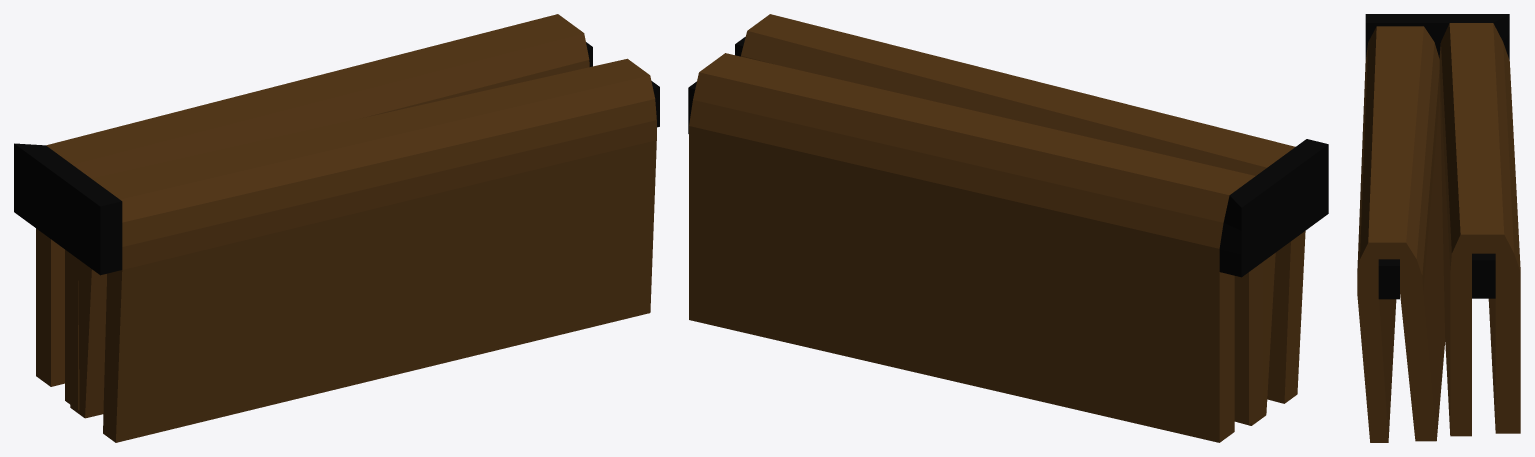
Rendered from towellHolder.fbx.
3 renders of one model, left to right at view 1: azimuth 30°, elevation 25°; view 2: azimuth 150°, elevation 25°; view 3: azimuth 270°, elevation 25°, orthographic. The views are drawn at different scales.
Visible parts, largest first — view 1: Cube; view 2: Cube; view 3: Cube.
Boxes of the visible parts, <box> form: Cube: <box>14,14,659,442</box>; Cube: <box>688,14,1328,442</box>; Cube: <box>1357,14,1520,442</box>.
Size of the model in its own units: 518 by 216 by 155.
